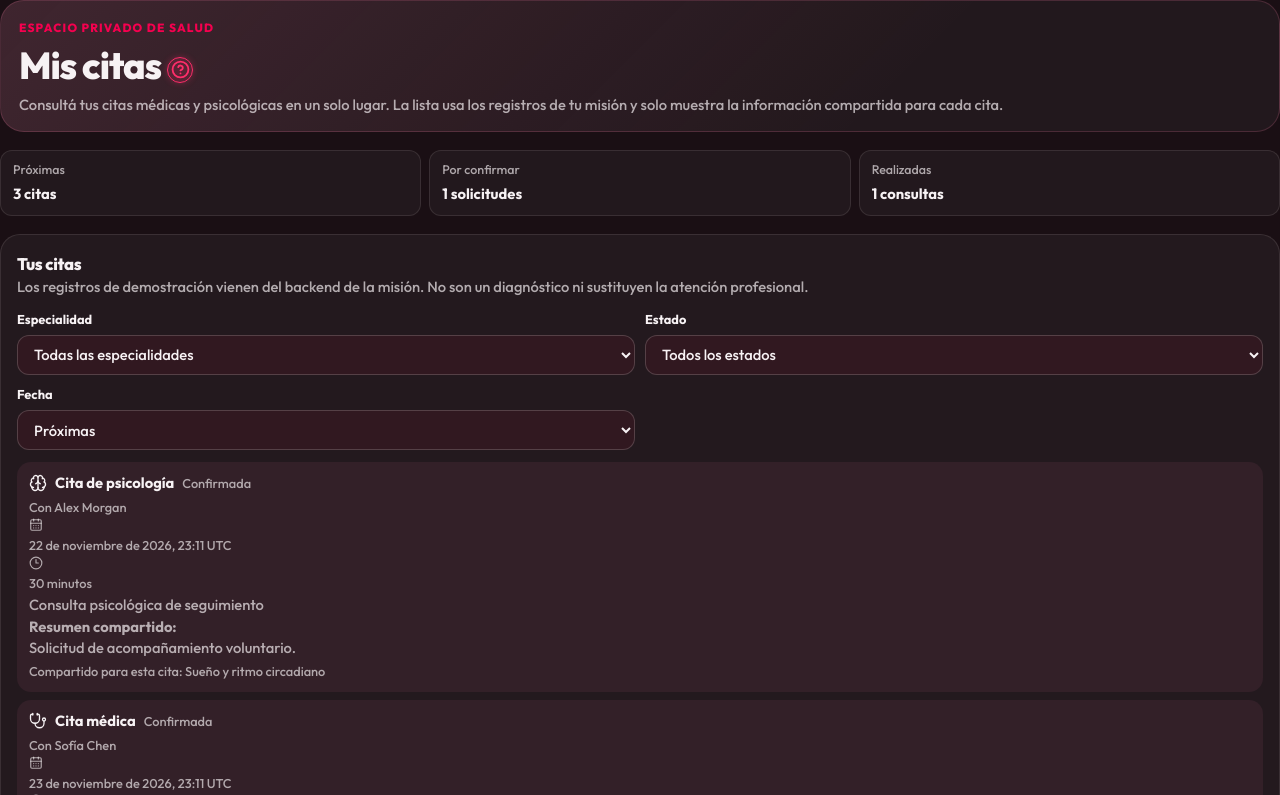
Scenario: MySpacePage appointments › filters appointments by specialty, status, and date period
This screenshot has width=1280, height=795.
Expected: the text "Consulta psicológica de seguimiento" is shown, left=29, top=595, right=264, bottom=614
Select "Psicología" in the dropdown labelled "Especialidad" at (326, 355), box left=17, top=335, right=635, bottom=375
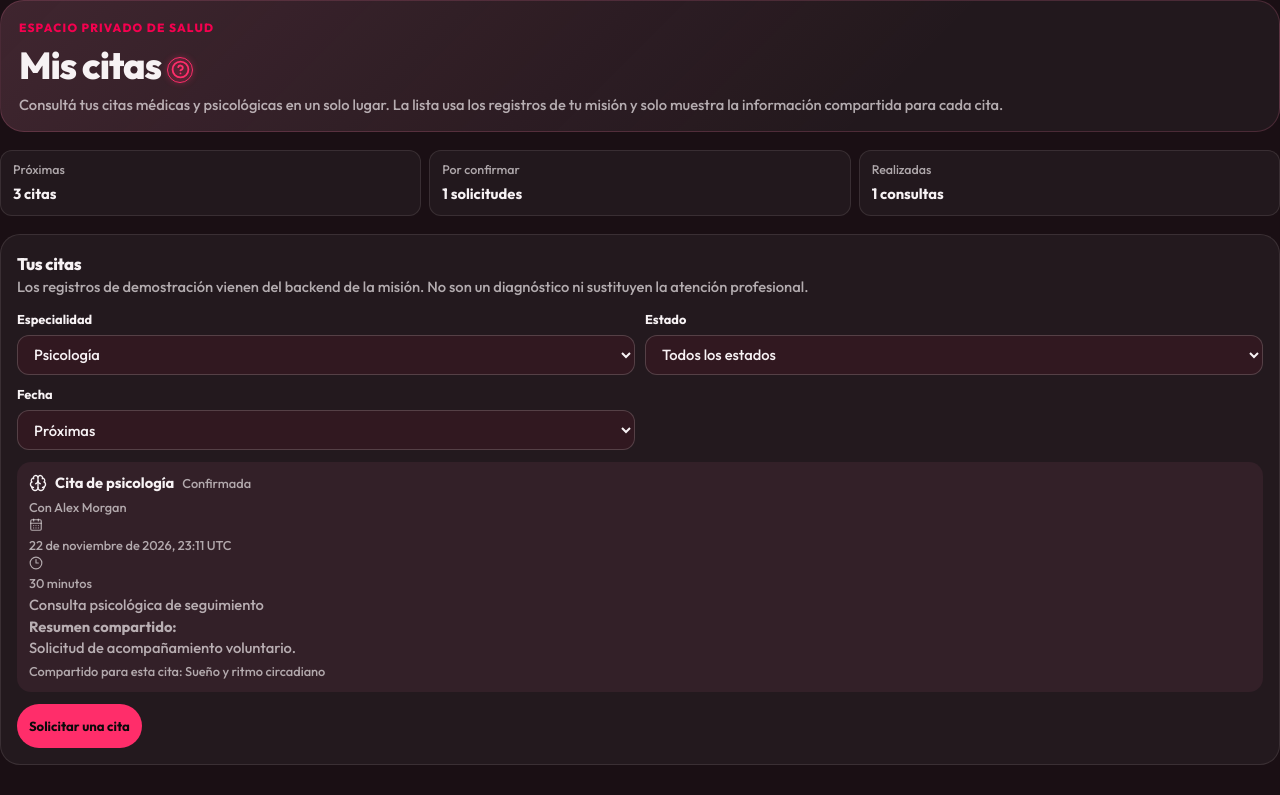
Expected: the text "Consulta psicológica de seguimiento" is shown, left=29, top=595, right=264, bottom=614
Select "Anteriores" in the dropdown labelled "Fecha" at (326, 430), box left=17, top=410, right=635, bottom=450
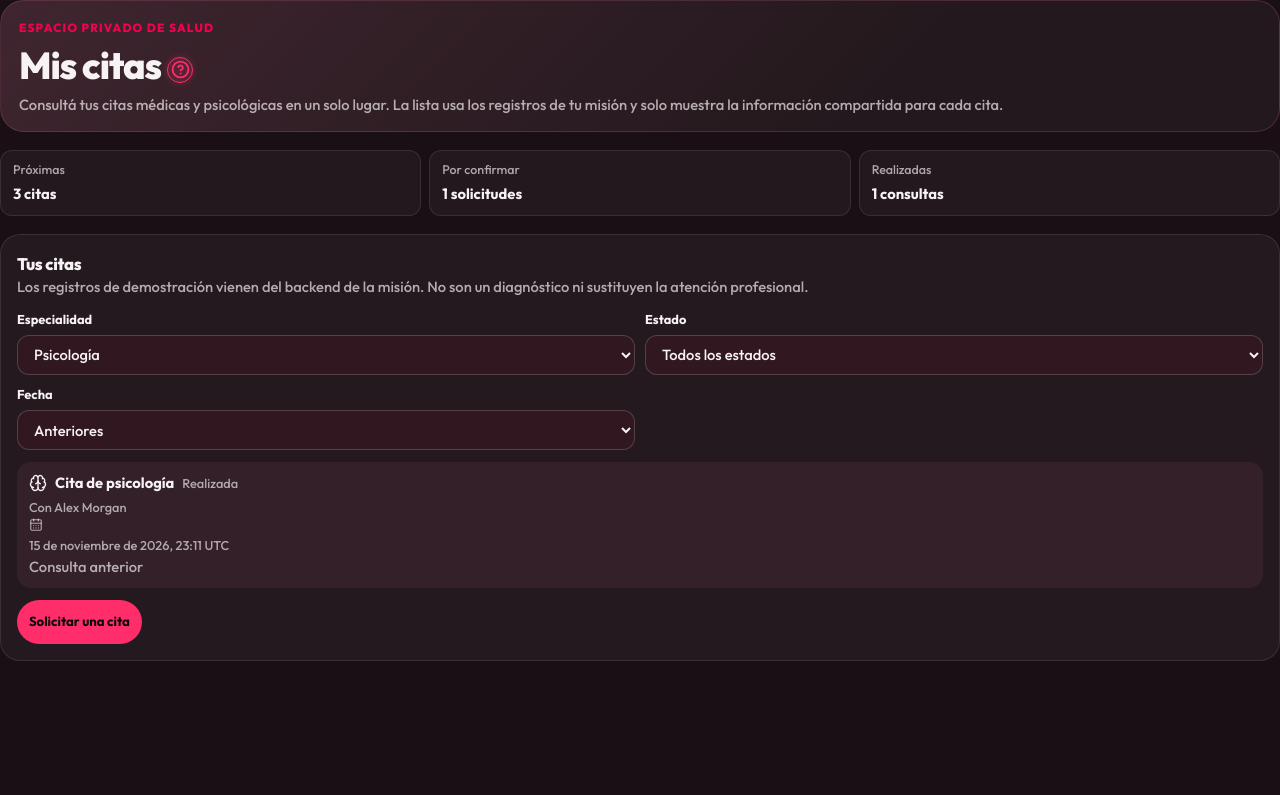
Result: the text "Consulta anterior" is shown at left=29, top=557, right=143, bottom=576
Result: the text "Consulta psicológica de seguimiento" is gone
Select "Realizada" in the dropdown labelled "Estado" at (954, 355), box left=645, top=335, right=1263, bottom=375
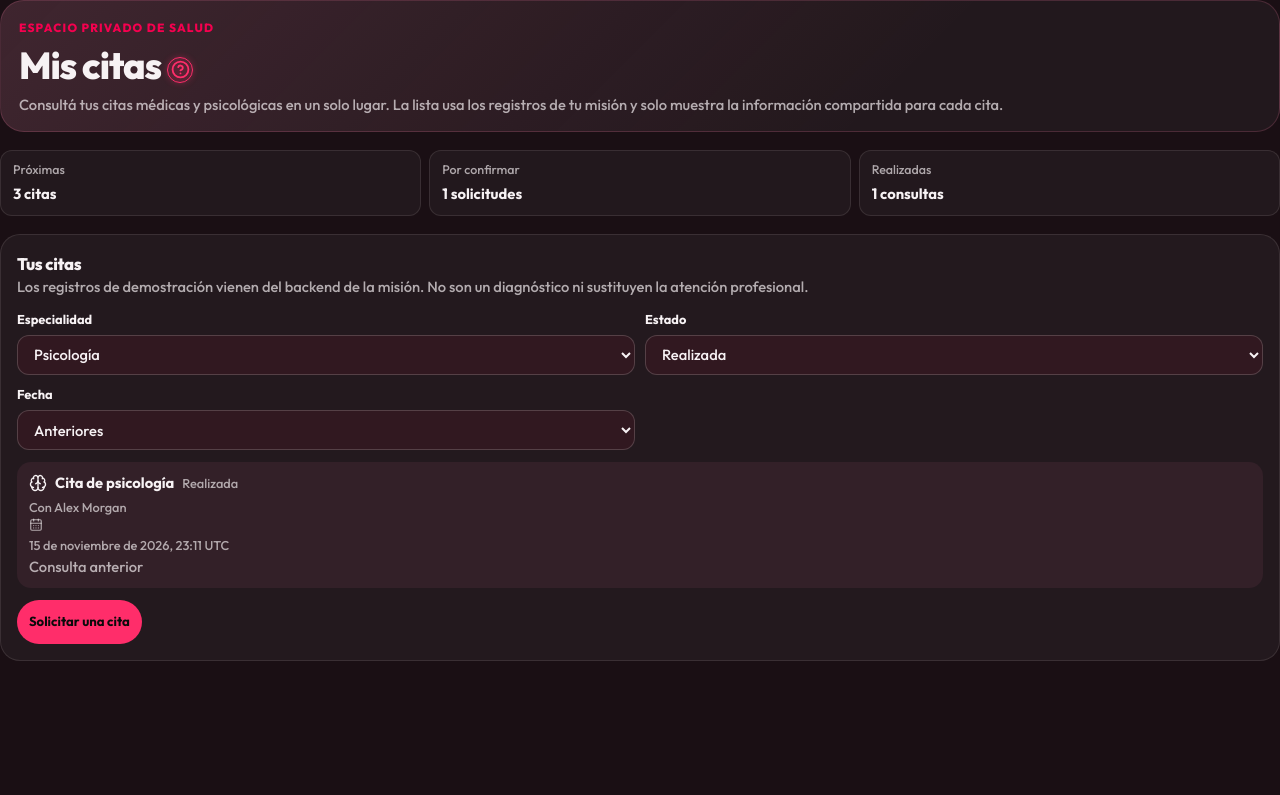
Result: the text "Consulta anterior" is shown at left=29, top=557, right=143, bottom=576
Select "Solicitada" in the dropdown labelled "Estado" at (954, 355), box left=645, top=335, right=1263, bottom=375
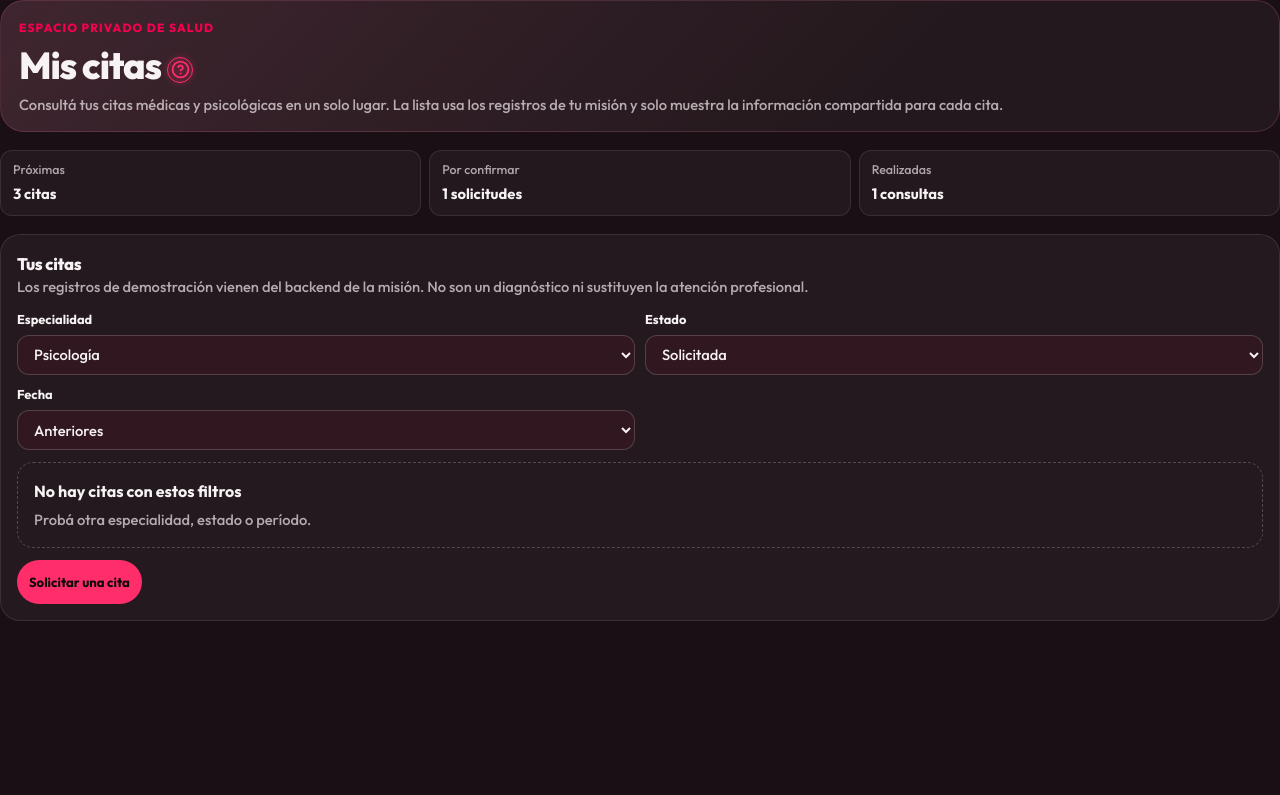
Select "Cualquier fecha" in the dropdown labelled "Fecha" at (326, 430), box left=17, top=410, right=635, bottom=450
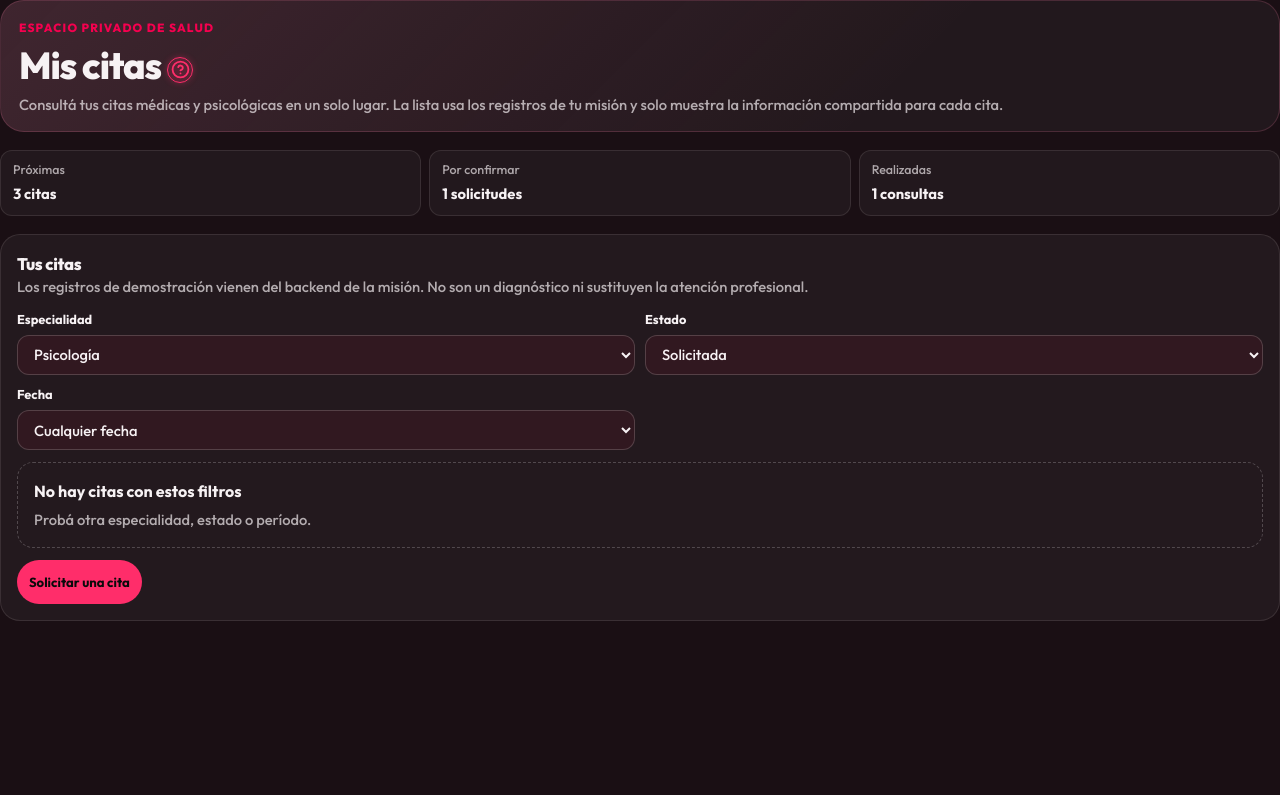
Select "Todas las especialidades" in the dropdown labelled "Especialidad" at (326, 355), box left=17, top=335, right=635, bottom=375
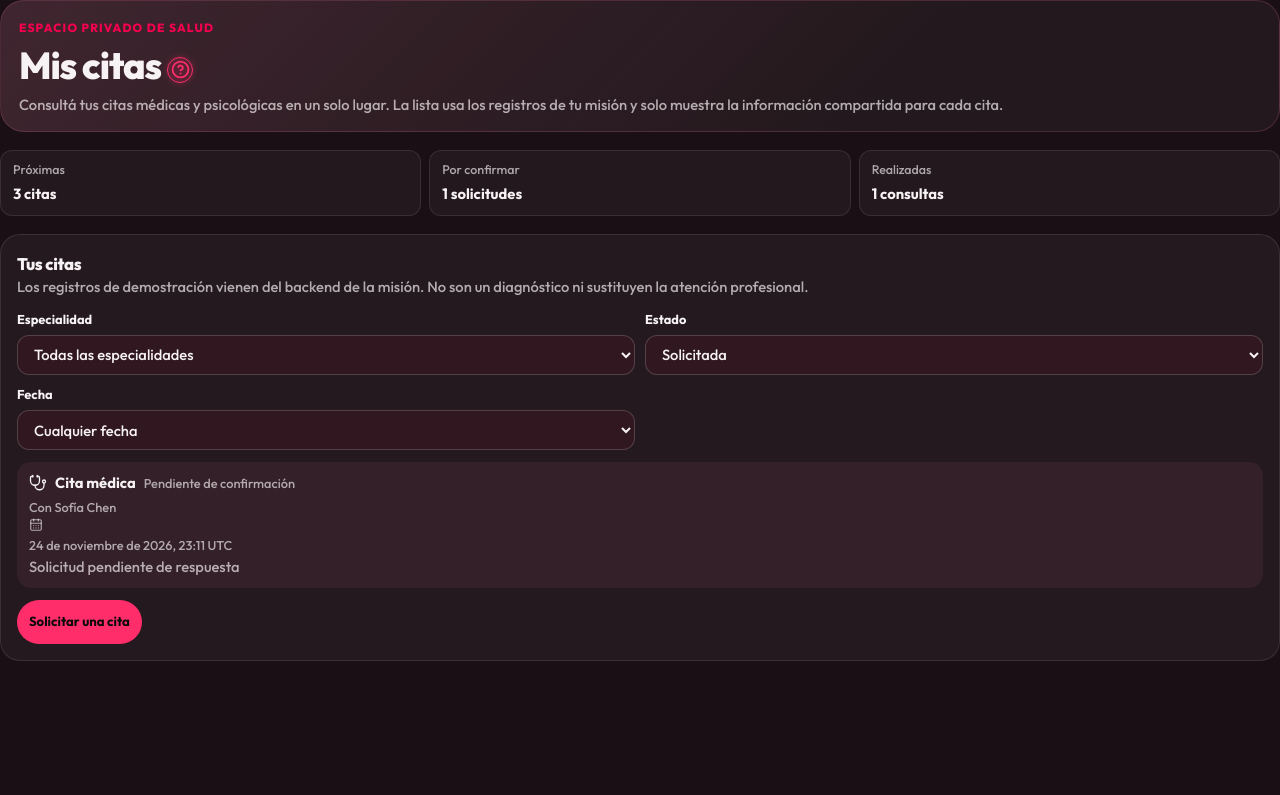
Result: the text "Solicitud pendiente de respuesta" is shown at left=29, top=557, right=240, bottom=576
